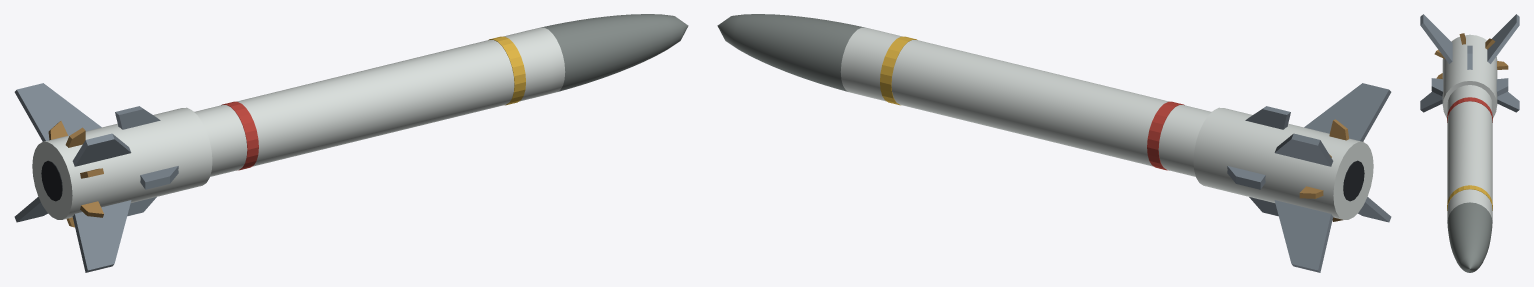
File: rgm_139_vla.glb
3 views of the same model, side by side, from view 1: azimuth 30°, elevation 25°; view 2: azimuth 150°, elevation 25°; view 3: azimuth 270°, elevation 25° (orthographic). The views are drawn at different scales.
Visible parts, largest first — view 1: missile_body, titanium, seeker, bronze, hazard_red, marking_yellow, rubber; view 2: missile_body, titanium, seeker, hazard_red, marking_yellow, rubber, bronze; view 3: missile_body, seeker, titanium, bronze, marking_yellow, hazard_red.
Part boxes in pixels (left/top/right/bottom): missile_body: left=32, top=27, right=565, bottom=219; titanium: left=14, top=83, right=178, bottom=272; seeker: left=541, top=14, right=688, bottom=91; bronze: left=48, top=121, right=103, bottom=227; hazard_red: left=221, top=101, right=258, bottom=170; marking_yellow: left=489, top=36, right=525, bottom=105; rubber: left=41, top=160, right=62, bottom=201; missile_body: left=840, top=27, right=1373, bottom=219; titanium: left=1227, top=83, right=1391, bottom=272; seeker: left=717, top=14, right=864, bottom=91; hazard_red: left=1147, top=101, right=1184, bottom=170; marking_yellow: left=880, top=36, right=916, bottom=105; rubber: left=1343, top=160, right=1364, bottom=201; bronze: left=1299, top=119, right=1348, bottom=221; missile_body: left=1442, top=34, right=1497, bottom=221; seeker: left=1447, top=202, right=1492, bottom=272; titanium: left=1420, top=14, right=1519, bottom=112; bronze: left=1434, top=33, right=1508, bottom=78; marking_yellow: left=1447, top=185, right=1492, bottom=210; hazard_red: left=1447, top=97, right=1492, bottom=122.
Size of the model in its own units: 10 by 1.99 by 1.99.
